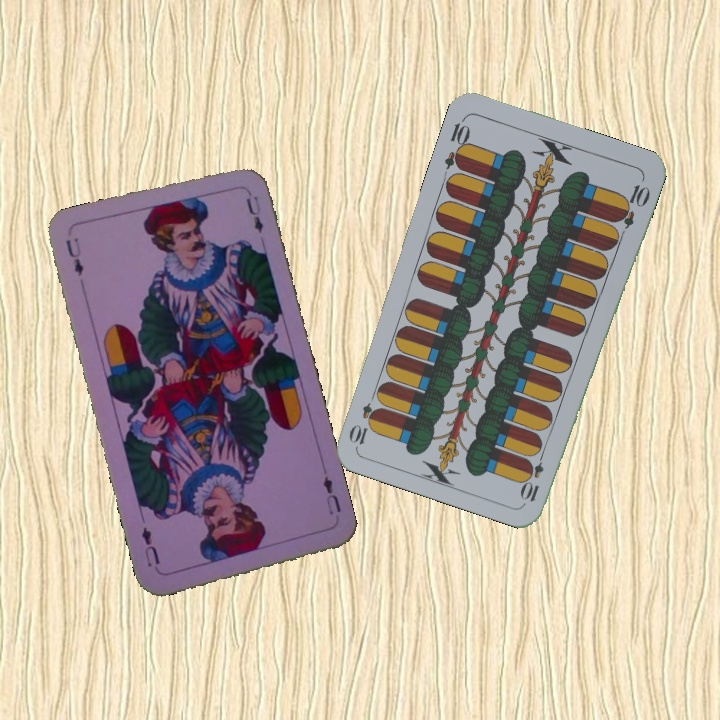E10: (440, 113, 473, 172), (519, 446, 548, 505)
EU: (319, 472, 344, 518), (61, 233, 86, 279)
